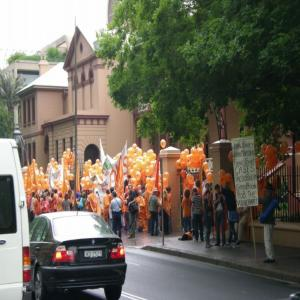Vehicle-registration-plate: (85, 251, 103, 258)
